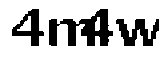4: (10, 6, 46, 51), (81, 7, 114, 50)
m: (46, 15, 97, 51)
w: (113, 14, 160, 50)
